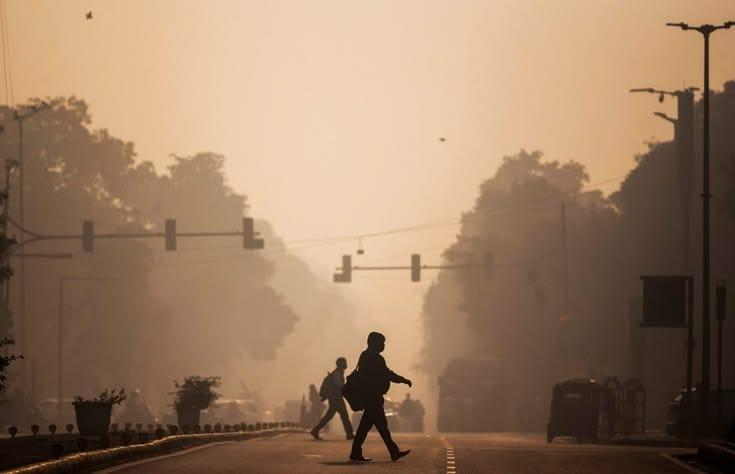Kendaraan: (430, 342, 520, 444), (532, 358, 608, 448)
Manusia: (337, 330, 417, 466), (315, 344, 350, 449)
Vegetasi: (0, 77, 304, 383), (405, 128, 687, 374), (147, 371, 240, 447), (49, 378, 132, 450)
